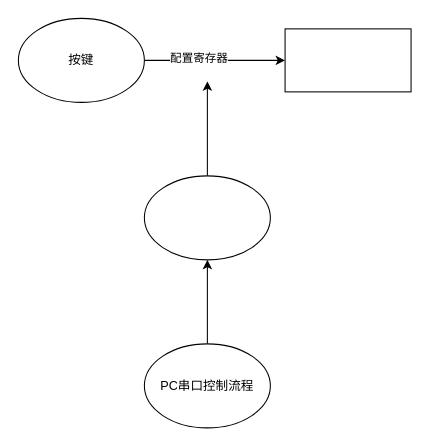
This 429x446 diagram has some shape labels left out. Each missing label, with the centre of its shape:
LED亮灭: point 347,60
PS配置寄存器: point 206,217
